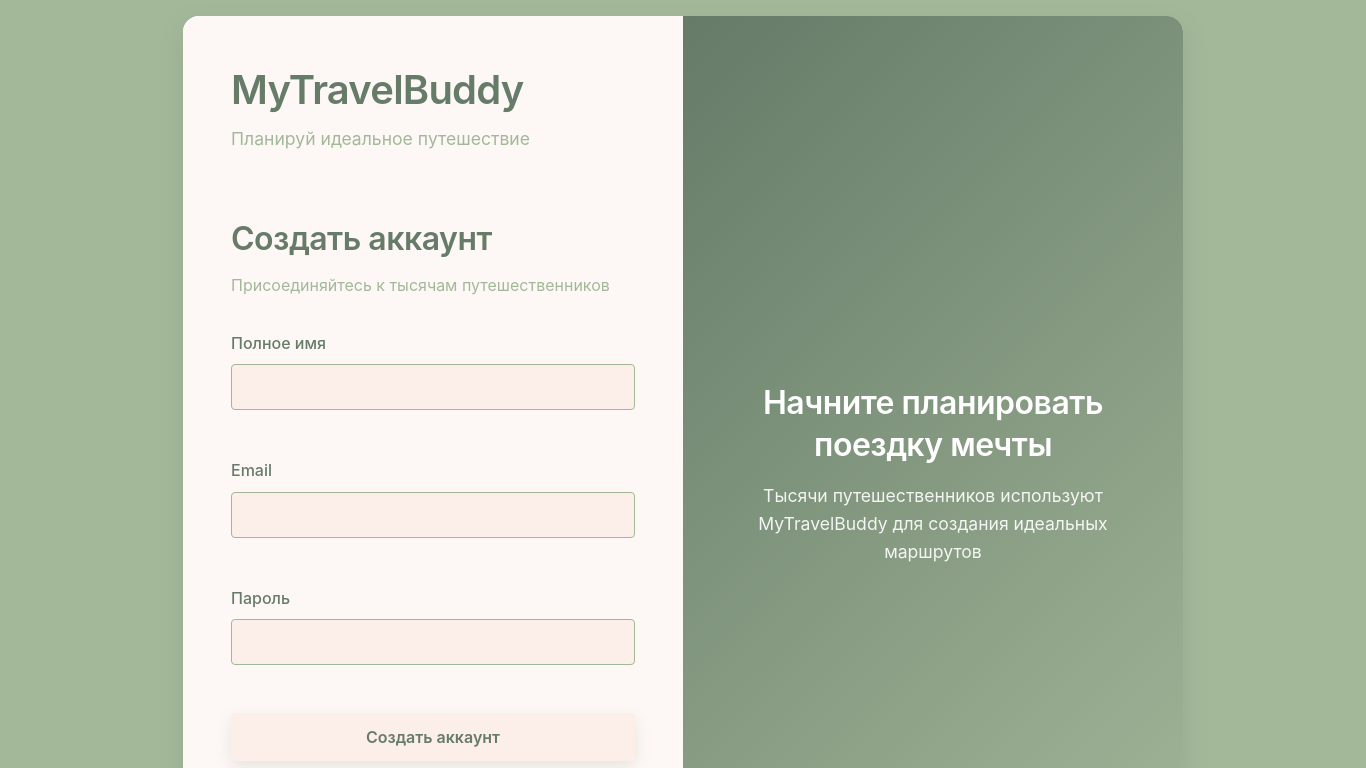
Test: RegisterPage › shows error on failed registration
This screenshot has width=1366, height=768.
Step 1. Type "Иван" into the field labelled "Полное имя" → (433, 387), box [231,364,635,410]
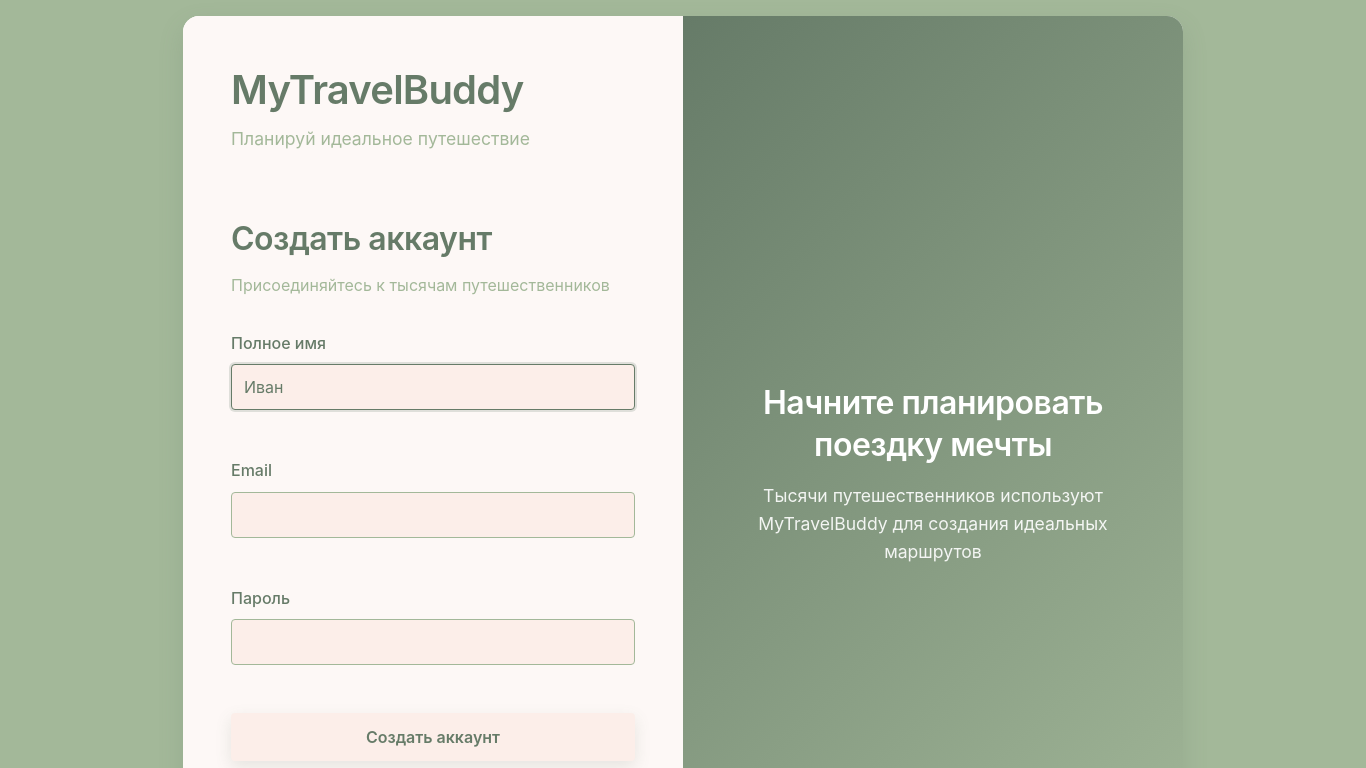
Step 2. Type "ivan@test.com" into the field labelled "Email" → (433, 515), box [231,492,635,538]
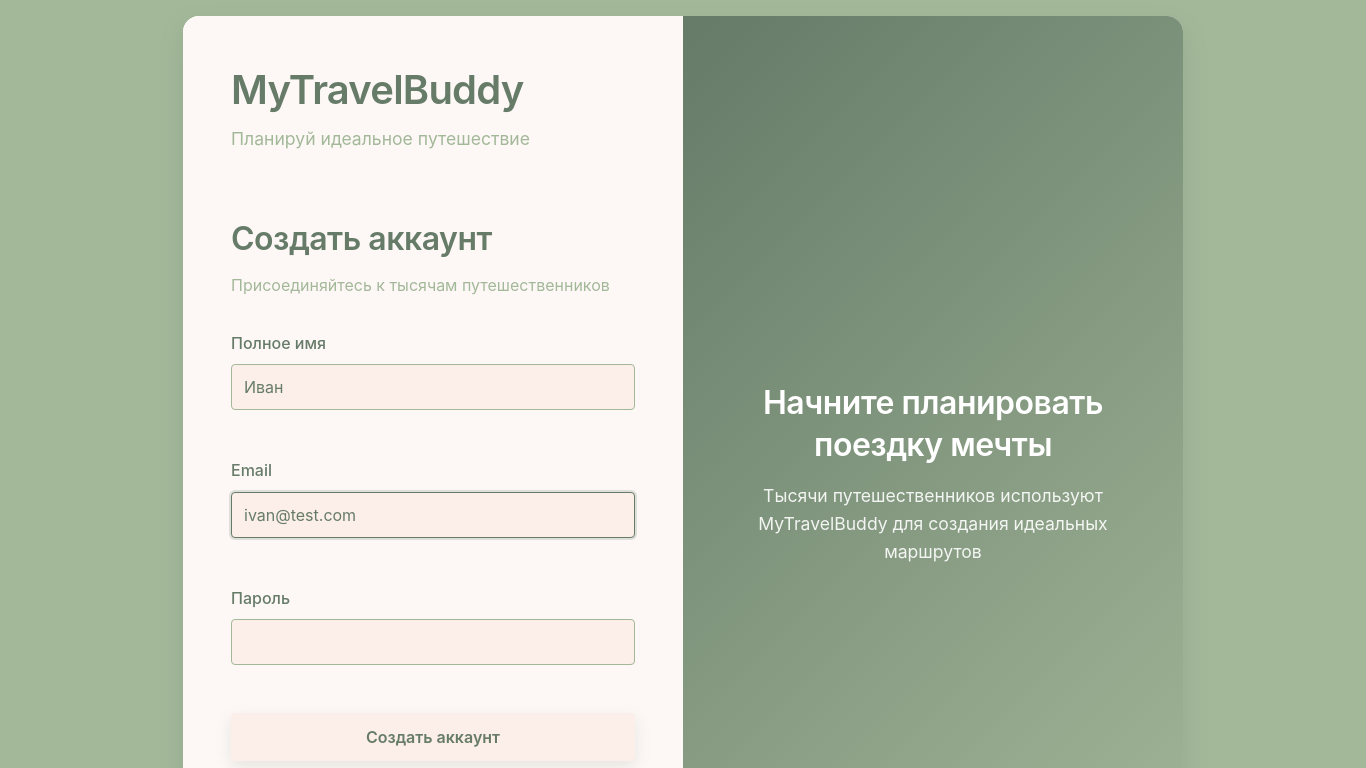
Step 3. Type "password" into the password field labelled "Пароль" → (433, 642), box [231,620,635,666]
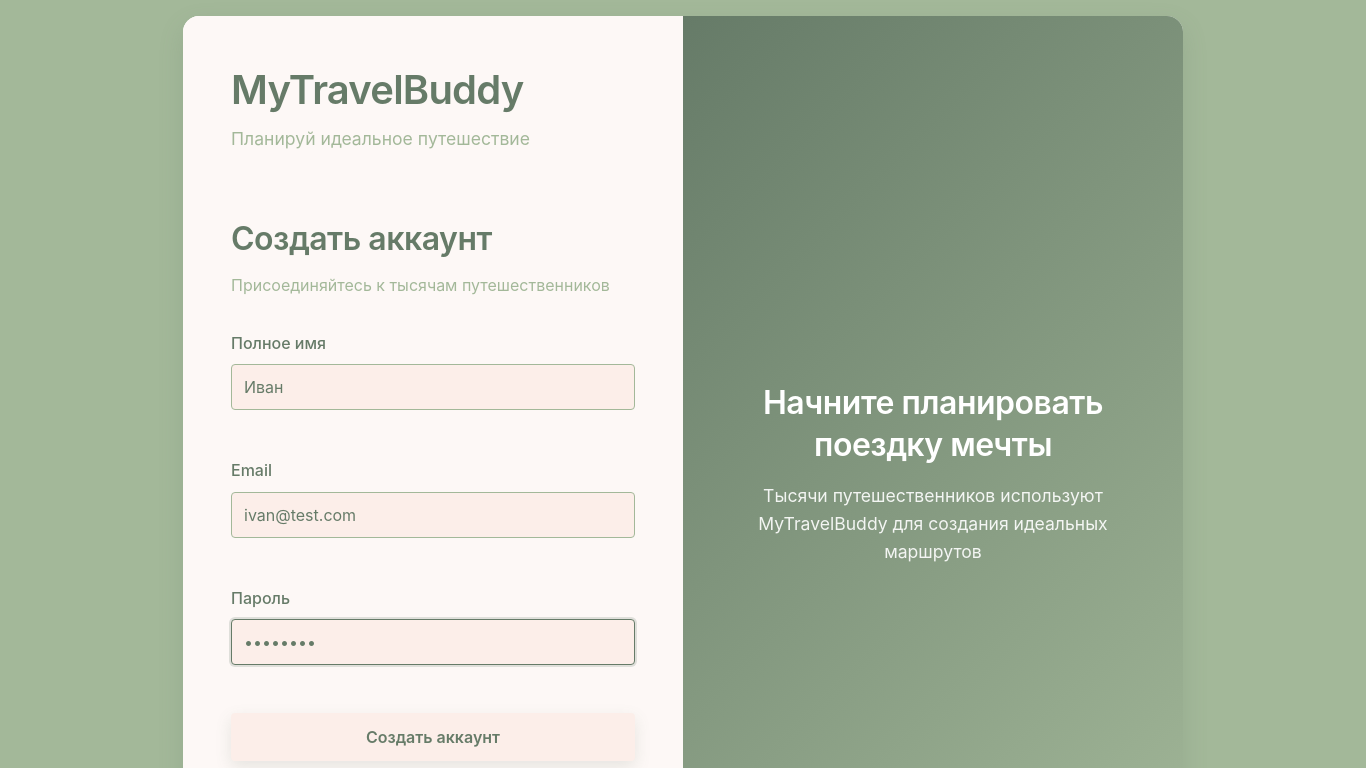
Step 4. Click the button "Создать аккаунт" → (433, 738), box [231,714,635,762]
(page scrolled)
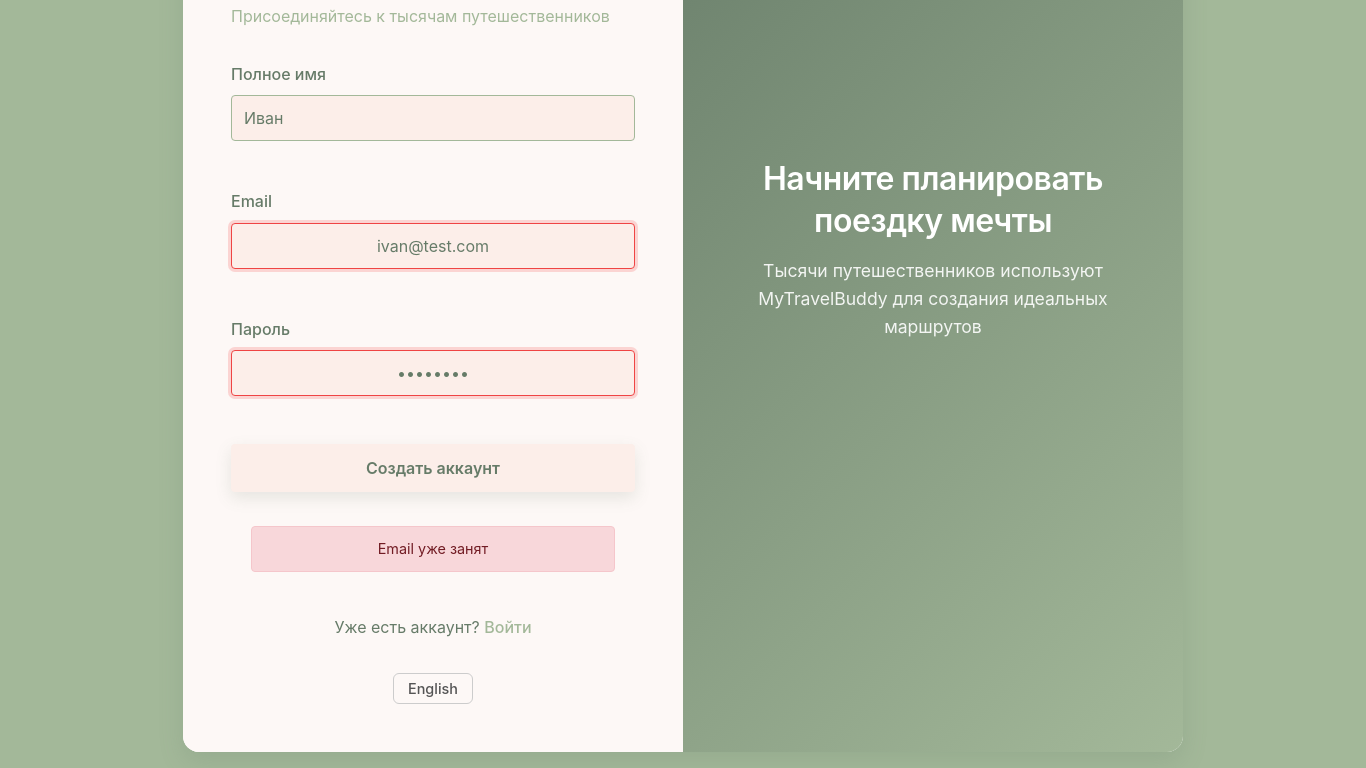
Expected: the text "Email уже занят" is shown, [251,526,615,572]
